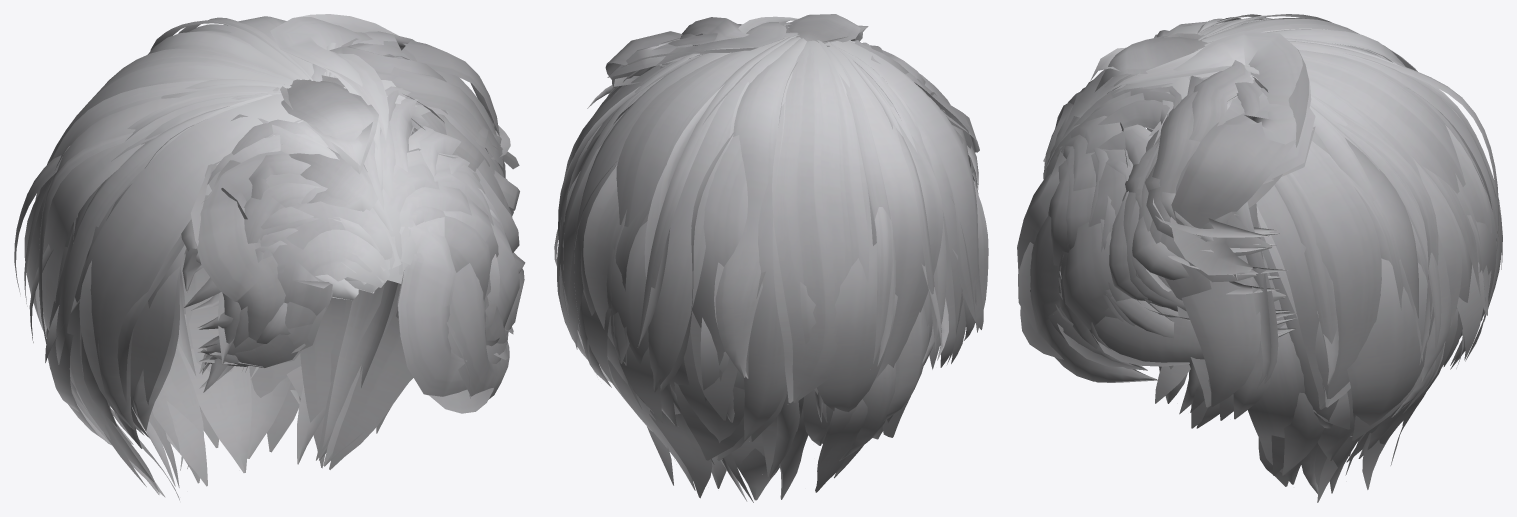
File: vroid_hair_c11v5p.glb
3 views of the same model, side by side, from view 1: azimuth 30°, elevation 25°; view 2: azimuth 150°, elevation 25°; view 3: azimuth 270°, elevation 25° (orthographic). The views are drawn at different scales.
Parts seen in each view (by area): view 1: hair; view 2: hair; view 3: hair.
Part boxes in pixels (<box>): hair: <box>14,14,525,500</box>; hair: <box>554,14,988,502</box>; hair: <box>1017,14,1502,502</box>.
Bounding box in the file's own units: 0.2286 × 0.2391 × 0.2396.
Materials: 1 (1 with a texture image).
